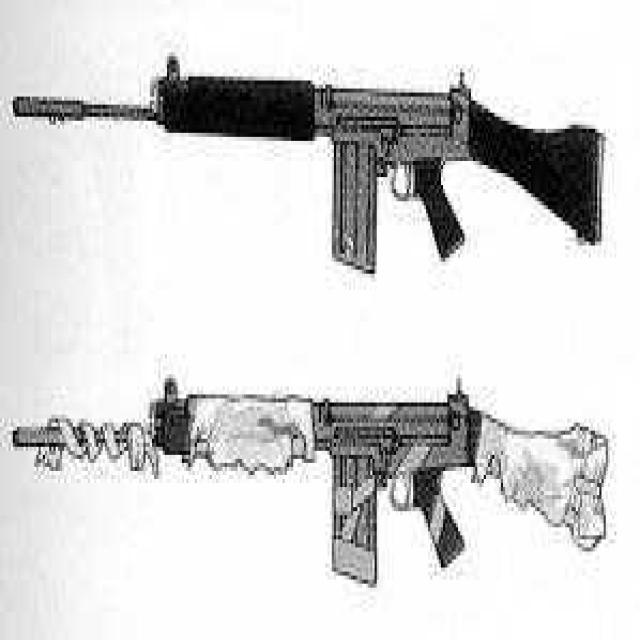Rifle: (8, 45, 610, 324)
